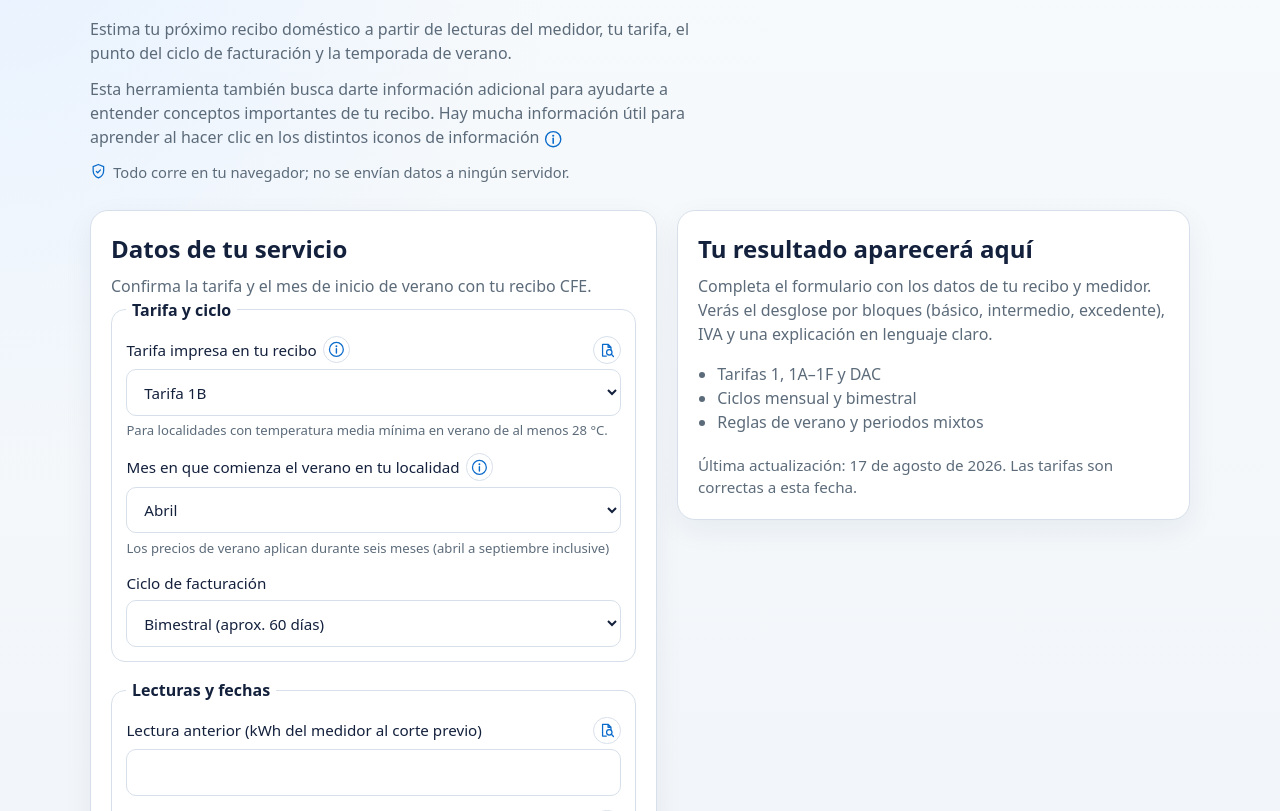
App › hides bimonthly allowance scale when billing cycle is monthly
Select "Mensual (aprox. 30 días)" in the dropdown labelled "Ciclo de facturación" at (374,624), box [126,600,621,647]
Select "Mayo" in the dropdown labelled "Mes en que comienza el verano en tu localidad" at (374,510), box [126,487,621,533]
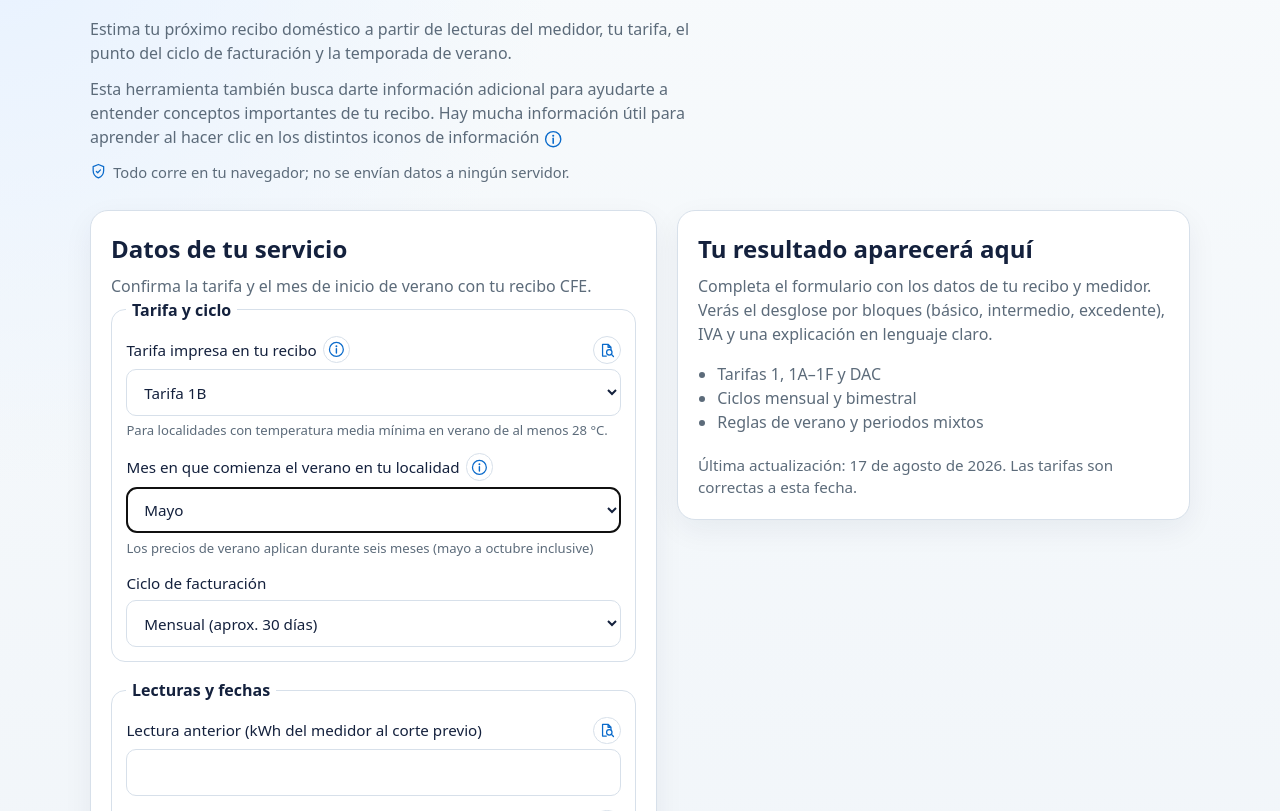
Type "1000" into the number field labelled "Lectura anterior (kWh del medidor al corte previo)" at (374,773), box [126,749,621,796]
(page scrolled)
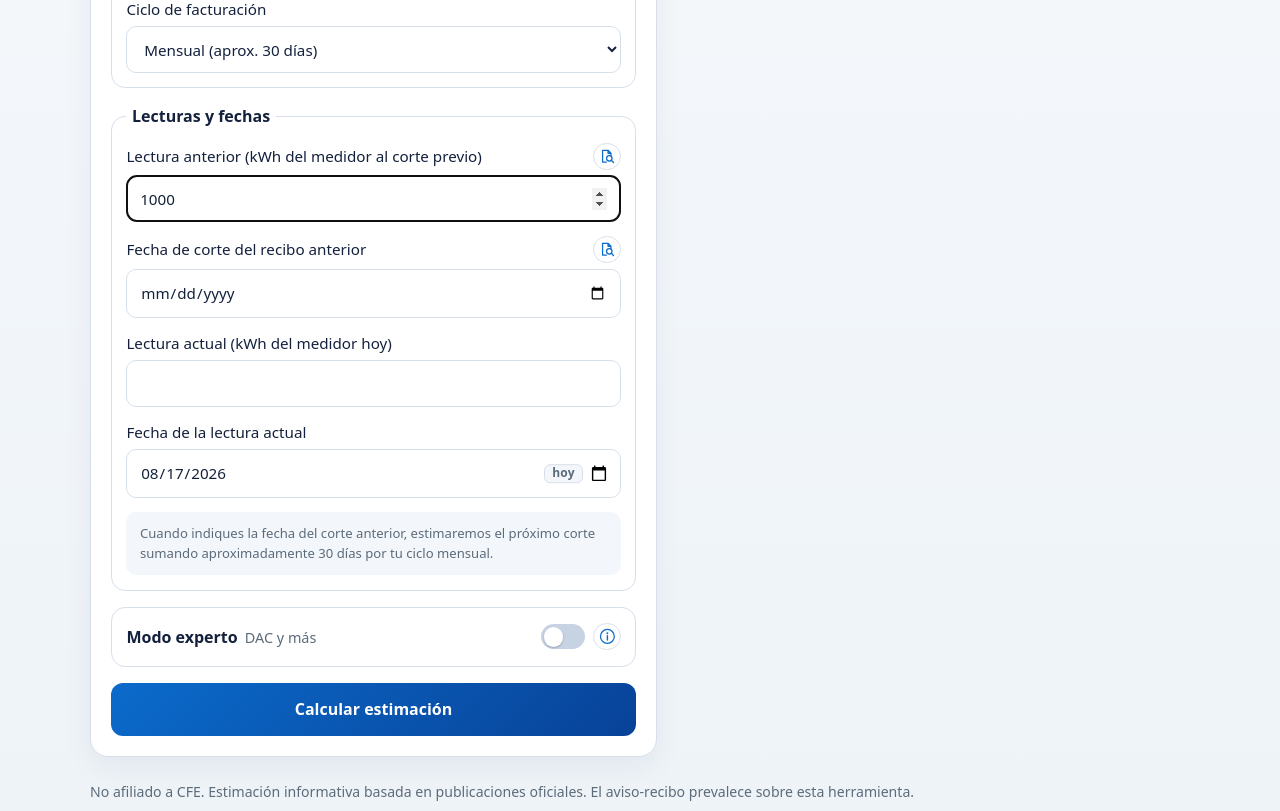
Type "1125" into the number field labelled "Lectura actual (kWh del medidor hoy)" at (374,384), box [126,360,621,407]
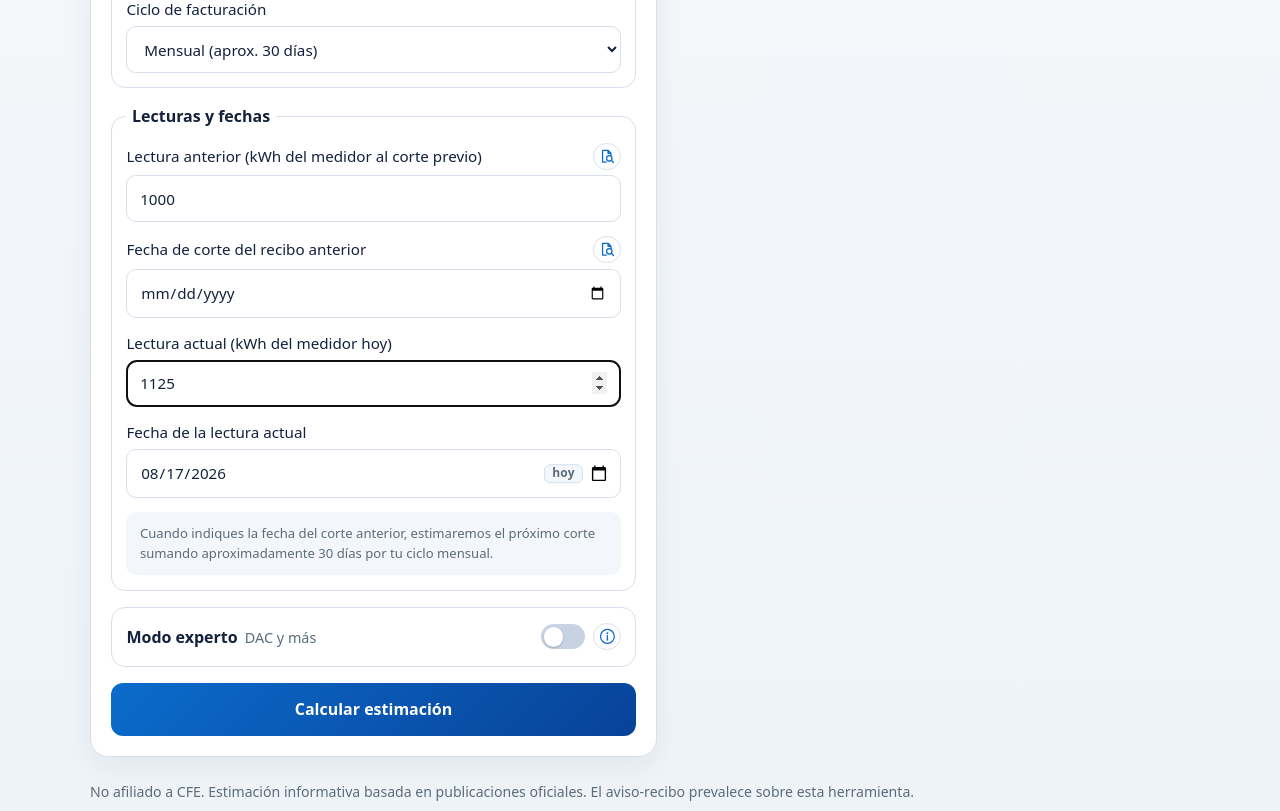
Type "2026-06-30" into the date field labelled "Fecha de corte del recibo anterior" at (374,293), box [126,269,621,318]
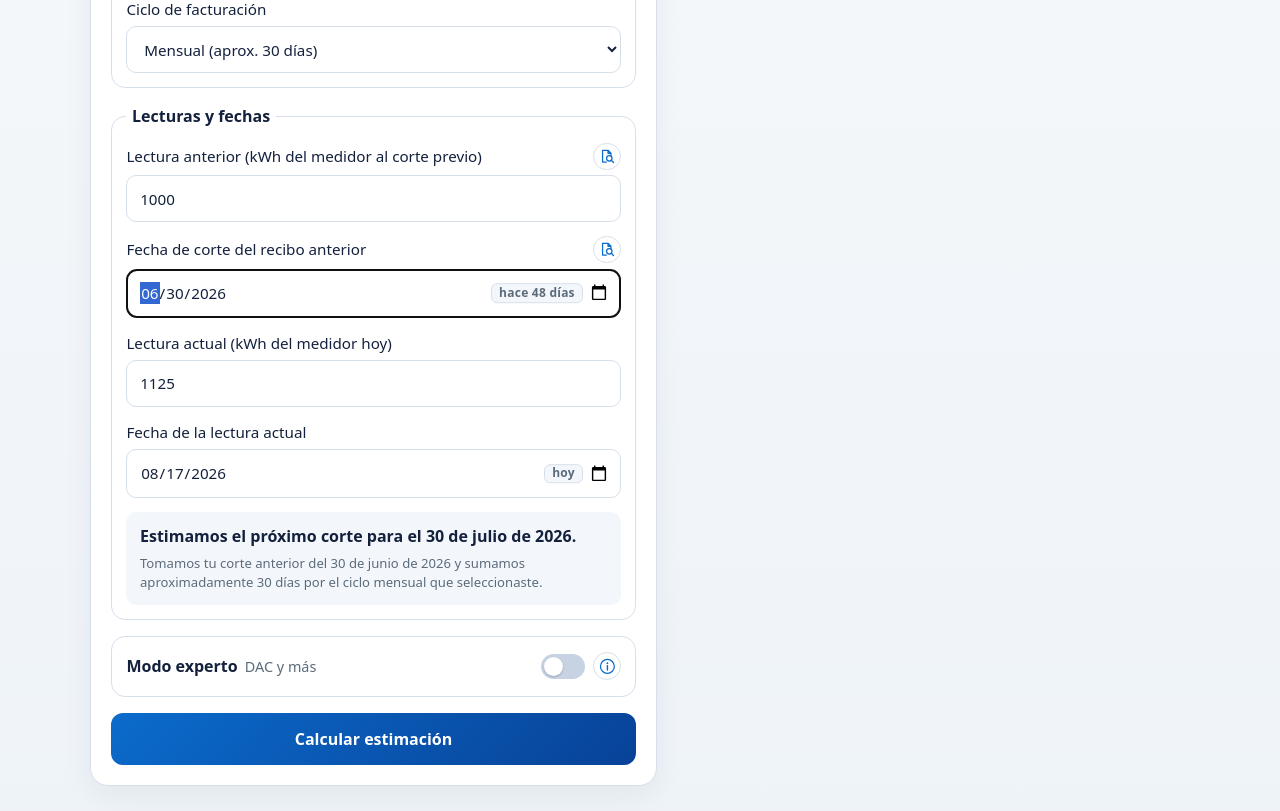
Type "2026-07-15" into the date field labelled "Fecha de la lectura actual hoy" at (374,474), box [126,449,621,498]
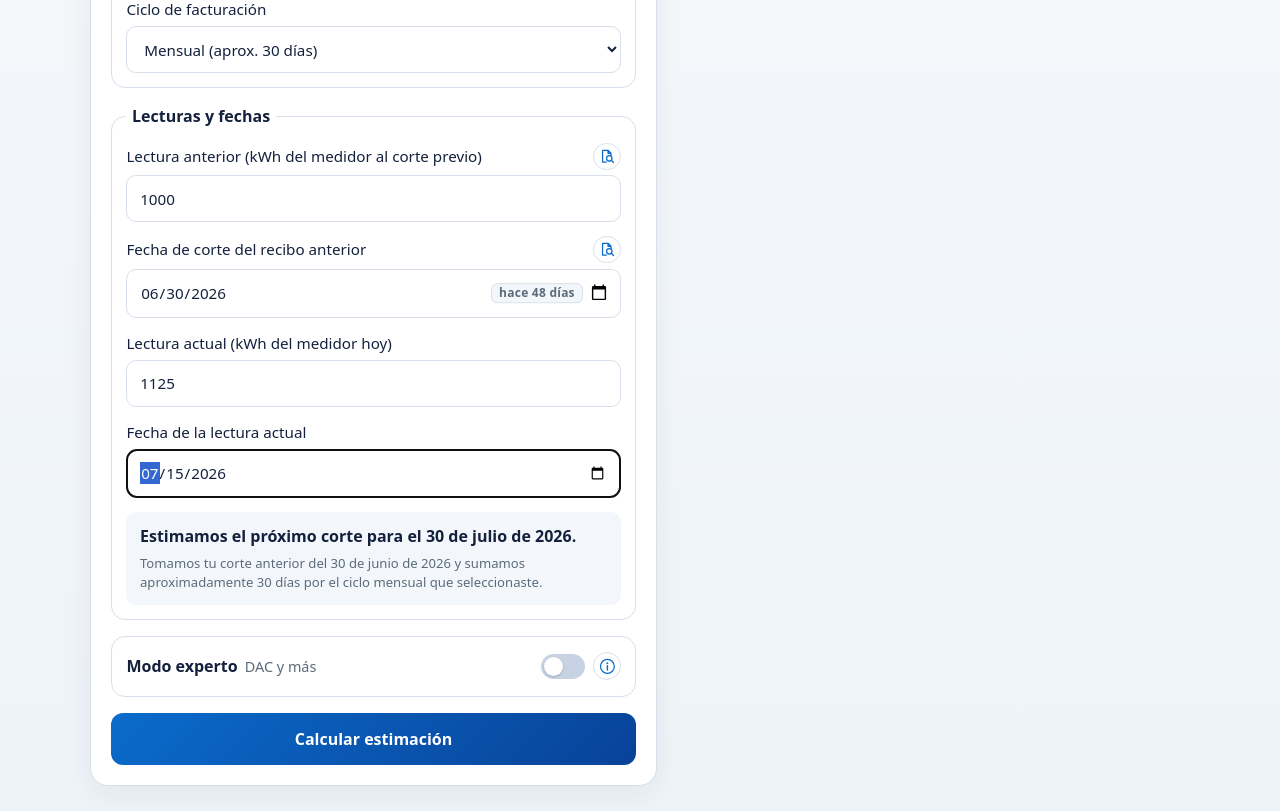
Click the button "Calcular estimación" at (374,739), box [111,713,636,765]
(page scrolled)
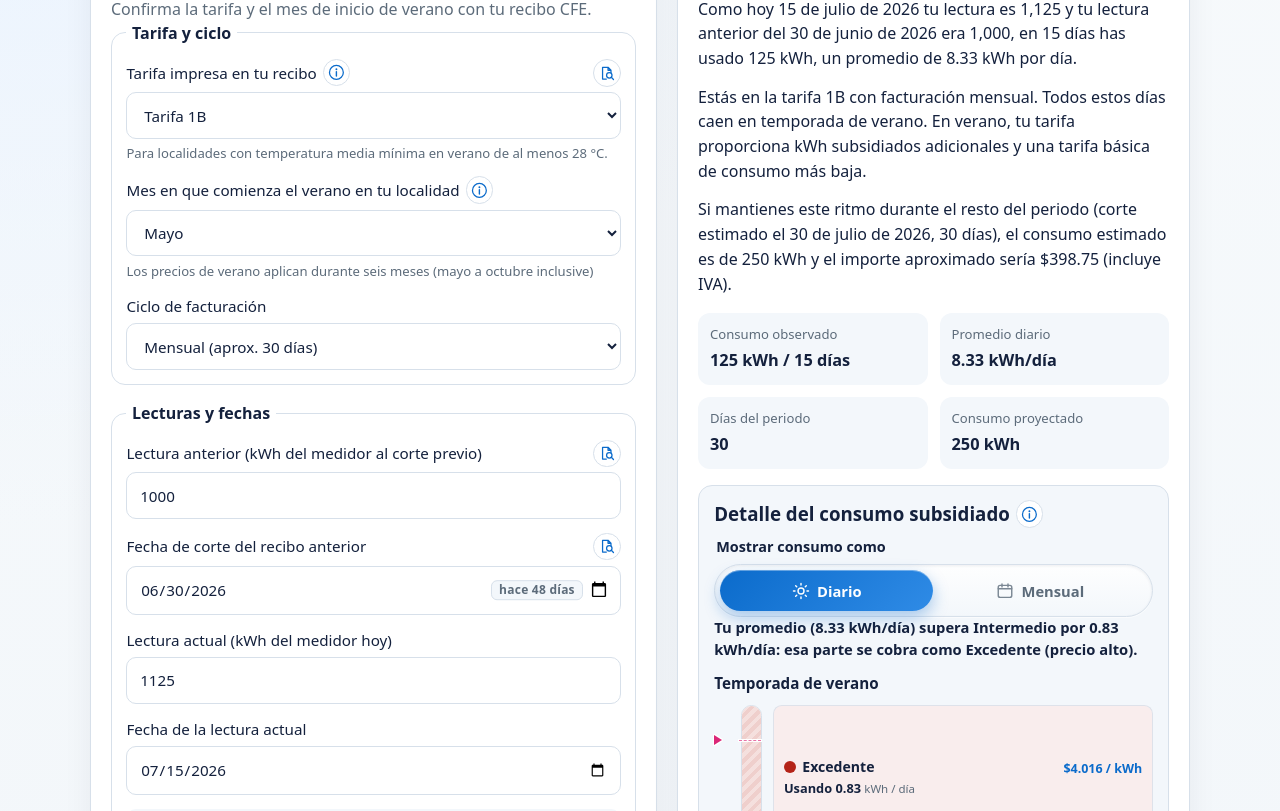
Check: the heading "Detalle del consumo subsidiado" is shown, box [714,500,1010,528]
Check: the tab "Diario" is shown, box [720,570,934,612]
Check: the tab "Mensual" is shown, box [934,570,1147,612]
